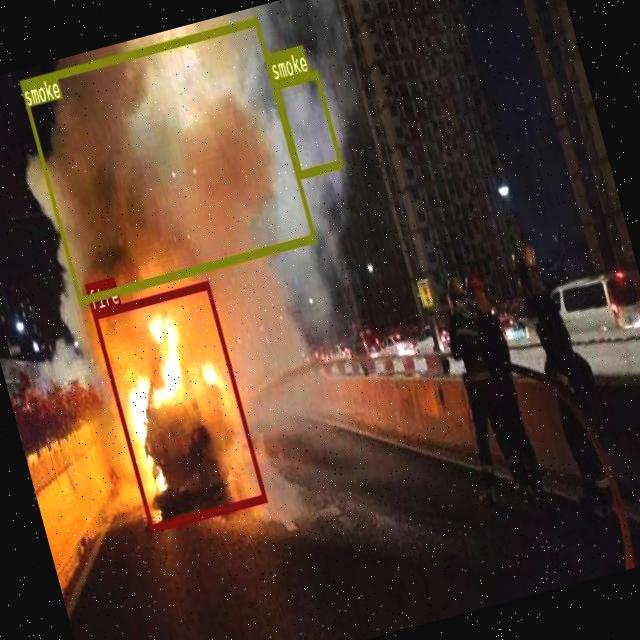fire: (90, 279, 266, 531)
smoke: (19, 16, 316, 303), (273, 68, 342, 178)
